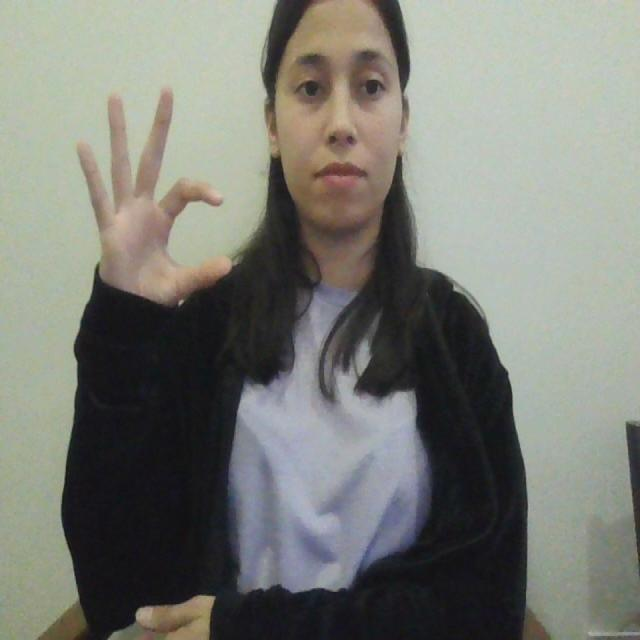Tuvalet: (71, 75, 252, 327)
